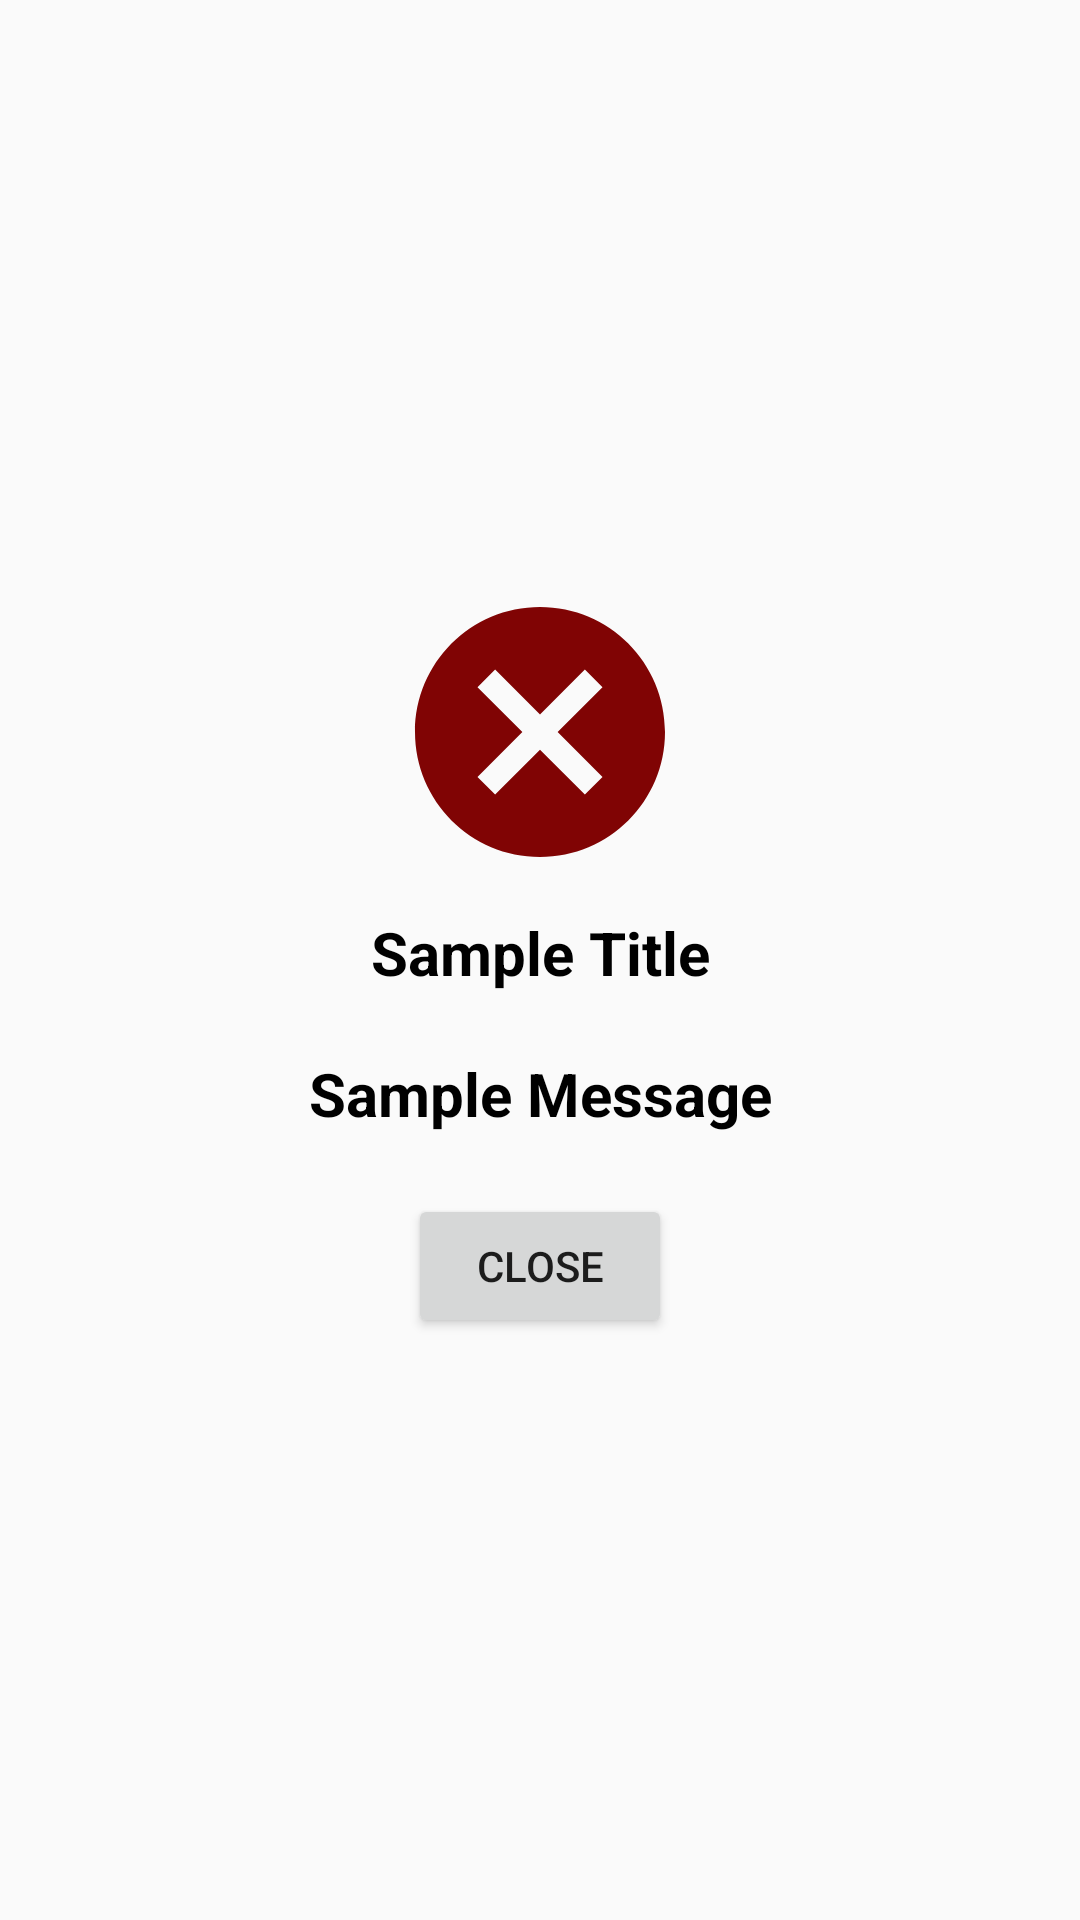

Where to tap for icons on this 1080px x 1920px app screen, as (x,y):
error: (540,732)
